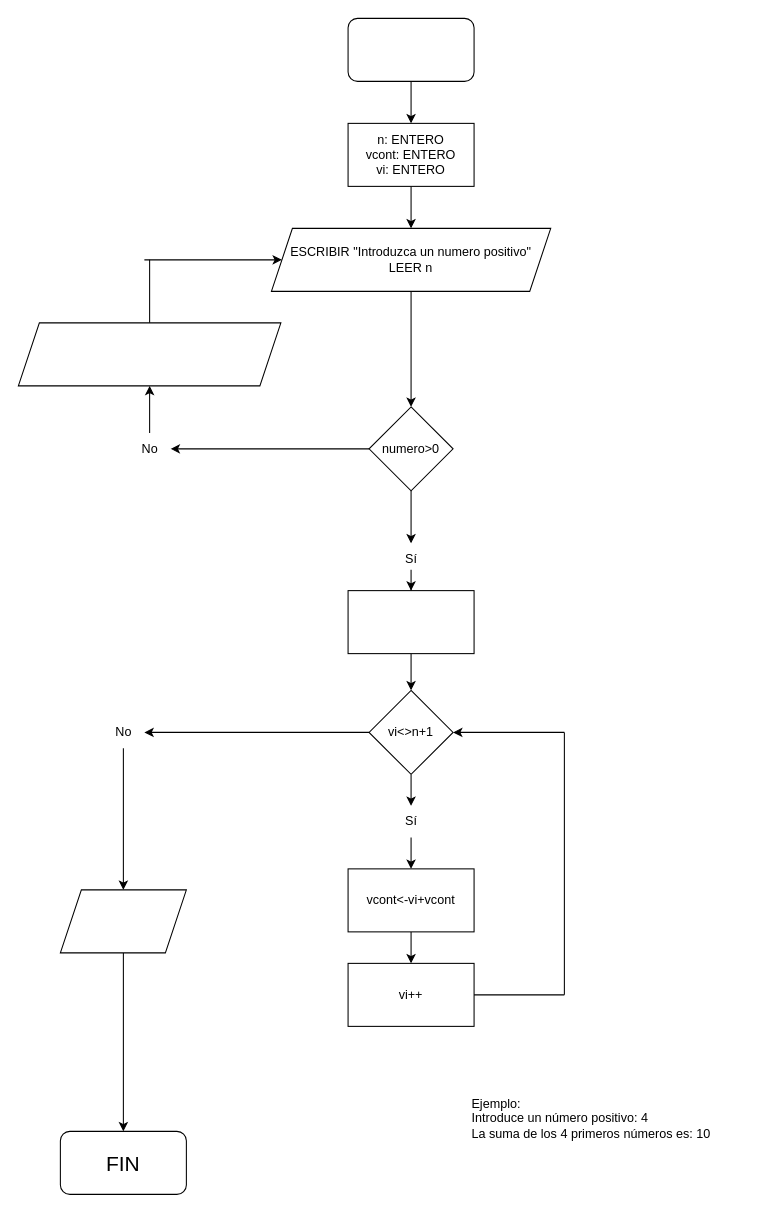
Image size: 761x1213. Some labels were removed from this diagram. Each missing label, with the centre of its shape:
ESCRIBIR "Ese numero no es positivo escribelode nuevo": pixel 149 354
ESCRIBIR vcont: pixel 122 921
INICIO: pixel 410 49
vi<-1 vcont<-0: pixel 410 622
